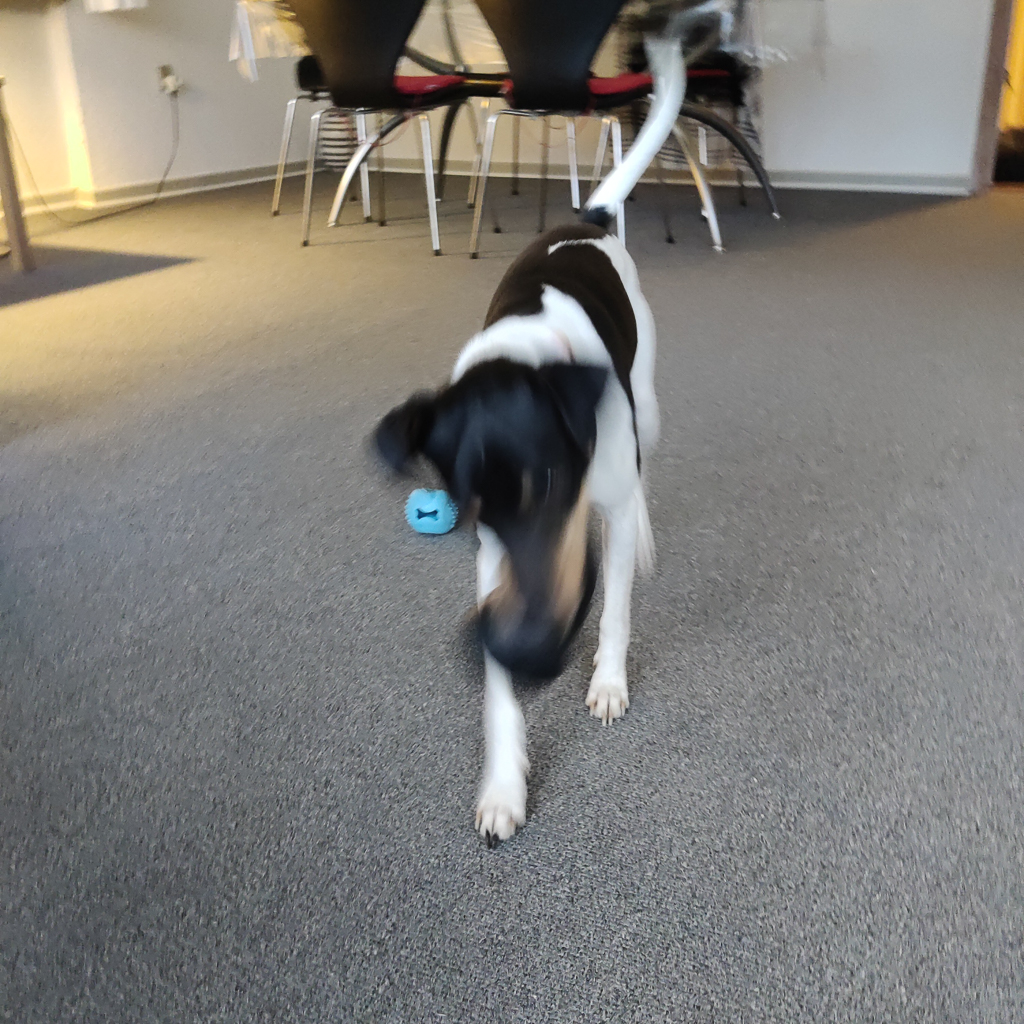Dog: (319, 12, 763, 900)
